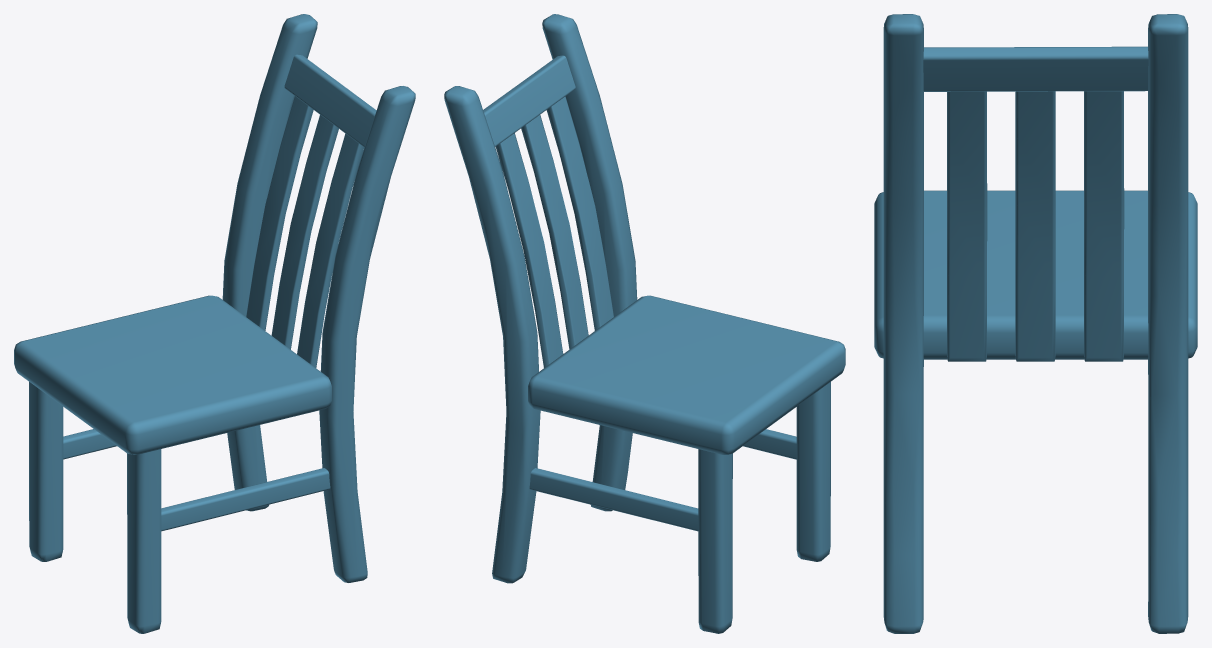
Rendered from chair_04_blue.fbx.
3 renders of one model, left to right at view 1: azimuth 30°, elevation 25°; view 2: azimuth 150°, elevation 25°; view 3: azimuth 270°, elevation 25°, orthographic. The views are drawn at different scales.
Parts seen in each view (by area): view 1: chair_04_blue; view 2: chair_04_blue; view 3: chair_04_blue.
Part boxes in pixels (bbox=[...]): chair_04_blue: bbox=[14, 14, 415, 633]; chair_04_blue: bbox=[444, 14, 845, 633]; chair_04_blue: bbox=[874, 14, 1197, 633].
Size of the model in its own units: 67.91 by 106 by 48.29.
Materials: 1 (1 with a texture image).
